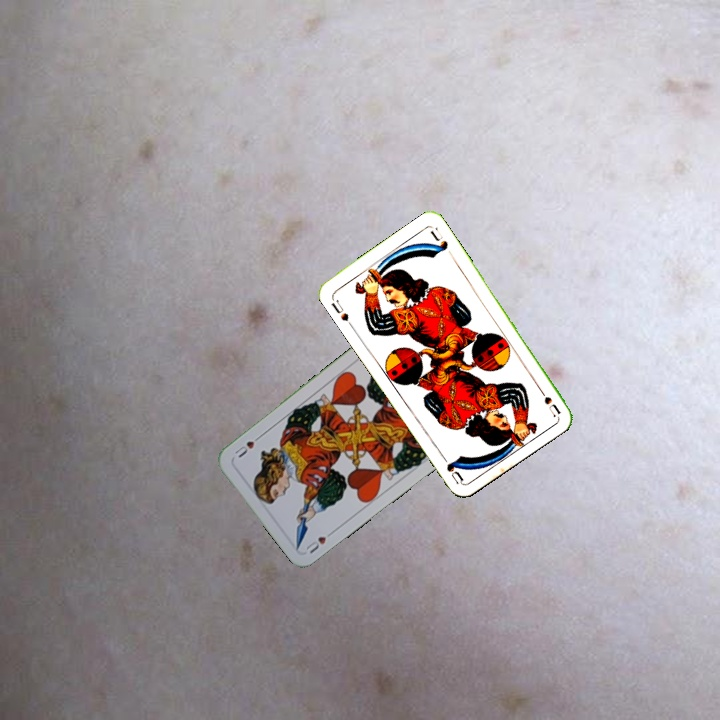HU: (302, 526, 337, 556)
SU: (533, 381, 563, 419), (327, 293, 351, 324)
